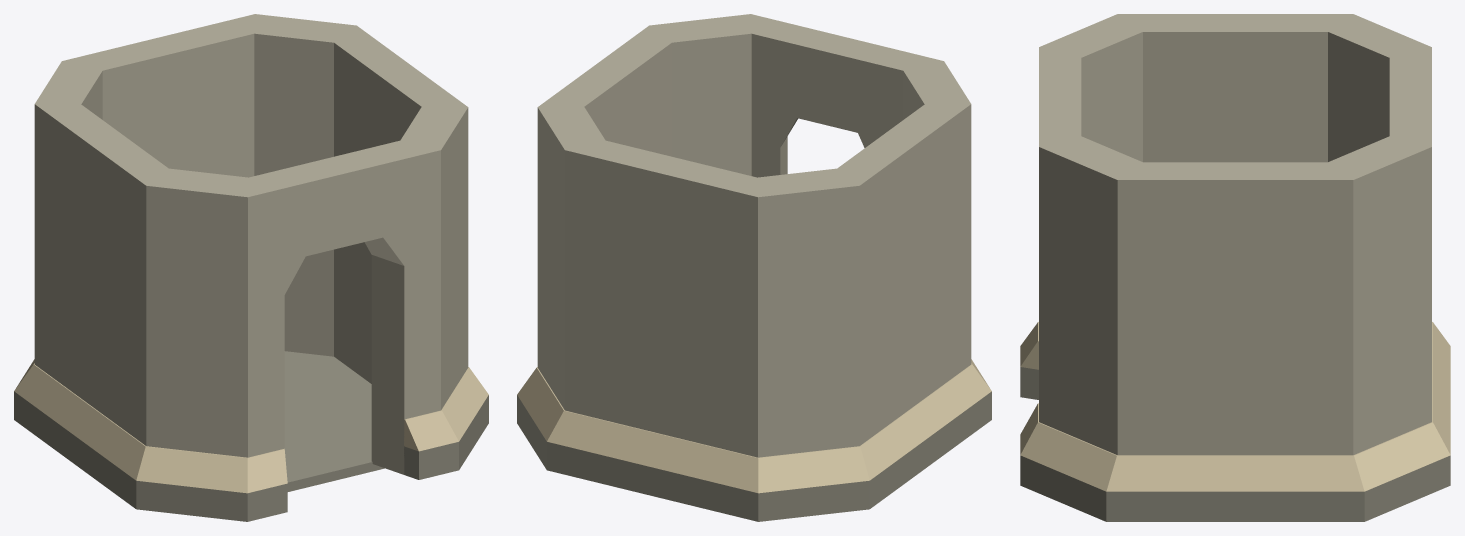
Rendered from tower_footing.glb.
3 renders of one model, left to right at view 1: azimuth 30°, elevation 25°; view 2: azimuth 150°, elevation 25°; view 3: azimuth 270°, elevation 25°, orthographic. The views are drawn at different scales.
Parts seen in each view (by area): view 1: Tower footing; view 2: Tower footing; view 3: Tower footing.
Part boxes in pixels (box(x1,y1,x2,y2)): Tower footing: box(14, 14, 488, 521); Tower footing: box(517, 14, 991, 521); Tower footing: box(1020, 14, 1450, 521).
Bounding box in the file's own units: 2.19 × 1.92 × 2.19.
